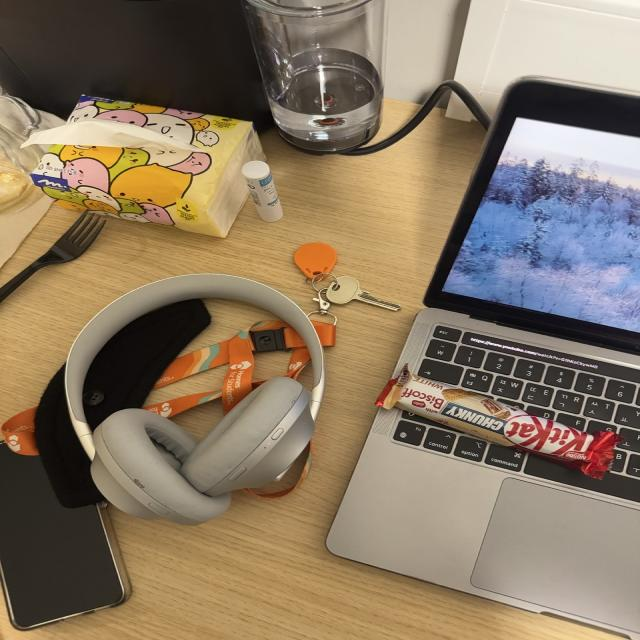chocolate: (368, 366, 625, 481)
